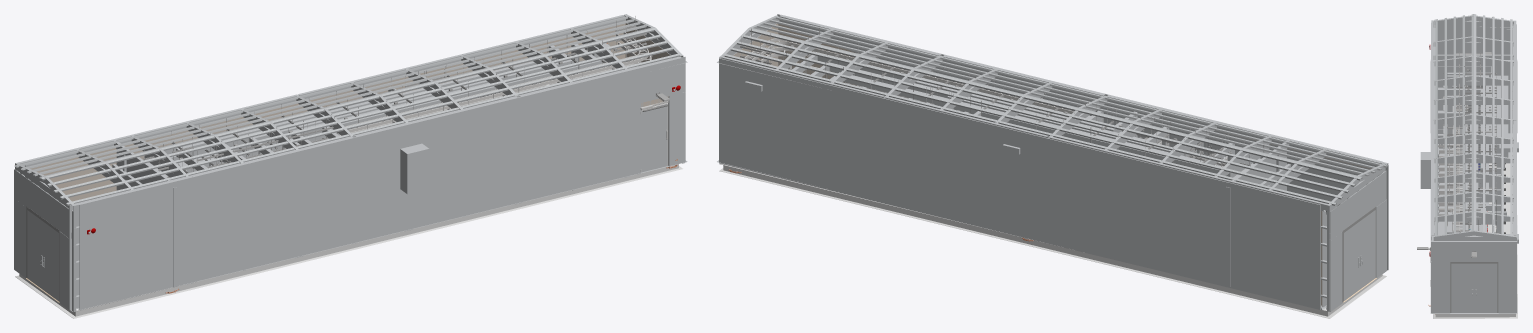
The model's file is sala-electrica.glb.
3 views of the same model, side by side, from view 1: azimuth 30°, elevation 25°; view 2: azimuth 150°, elevation 25°; view 3: azimuth 270°, elevation 25° (orthographic). The views are drawn at different scales.
Visible parts, largest first — view 1: PLANCHA 1 (×31), CANAL U 100X50X3X22391 (×10), PAREDES, ESTRUCTURA PISO, M_Door-Exterior-Double - 2100 x 2500mm-2420006-_ACC_, Label_Pivot Automatic Door_HB150_Pull - 1156 x 2316-1622724-, PRESURIZADOR, muro, 100X100X4; view 2: PLANCHA 1 (×33), CANAL U 100X50X3X22391 (×10), ESTRUCTURA PISO, M_Door-Exterior-Double - 2100 x 2500mm-2420006-_ACC_, PAREDES, 200X100X4X3427 (×3), muro; view 3: CANAL U 100X50X3X22391 (×10), 200X100X4X3427 (×21), 1111 (×12), PLANCHA 1 (×5), PAREDES, M_Door-Exterior-Double - 2100 x 2500mm-2420006-_ACC_, CLIMAA, muro, ESTRUCTURA PISO, CDC ABB, PRESURIZADOR, rack baterias (+4 smaller).
Part boxes in pixels (<box>): PLANCHA 1 (×31): <box>14,58,685,311</box>; CANAL U 100X50X3X22391 (×10): <box>14,15,679,205</box>; PAREDES: <box>25,23,687,309</box>; ESTRUCTURA PISO: <box>15,164,682,318</box>; M_Door-Exterior-Double - 2100 x 2500mm-2420006-_ACC_: <box>26,206,59,302</box>; Label_Pivot Automatic Door_HB150_Pull - 1156 x 2316-1622724-: <box>640,101,669,172</box>; PRESURIZADOR: <box>400,143,429,194</box>; muro: <box>116,151,177,287</box>; 100X100X4: <box>72,211,76,312</box>; PLANCHA 1 (×33): <box>719,58,1387,311</box>; CANAL U 100X50X3X22391 (×10): <box>723,16,1387,205</box>; ESTRUCTURA PISO: <box>719,163,1386,318</box>; M_Door-Exterior-Double - 2100 x 2500mm-2420006-_ACC_: <box>1342,207,1376,302</box>; PAREDES: <box>717,20,1371,308</box>; 200X100X4X3427 (×3): <box>722,56,1211,177</box>; muro: <box>1226,149,1286,287</box>; CANAL U 100X50X3X22391 (×10): <box>1435,14,1512,237</box>; 200X100X4X3427 (×21): <box>1431,20,1516,240</box>; 1111 (×12): <box>1433,15,1512,240</box>; PLANCHA 1 (×5): <box>1434,25,1516,313</box>; PAREDES: <box>1430,26,1517,313</box>; M_Door-Exterior-Double - 2100 x 2500mm-2420006-_ACC_: <box>1450,262,1498,312</box>; CLIMAA: <box>1489,75,1508,157</box>; muro: <box>1430,60,1517,133</box>; ESTRUCTURA PISO: <box>1433,215,1517,318</box>; CDC ABB: <box>1487,163,1510,233</box>; PRESURIZADOR: <box>1420,152,1430,188</box>; rack baterias: <box>1438,163,1453,233</box>.
Size of the model in its own units: 23.05 by 4.33 by 4.43.
52 materials, 4 textured.
